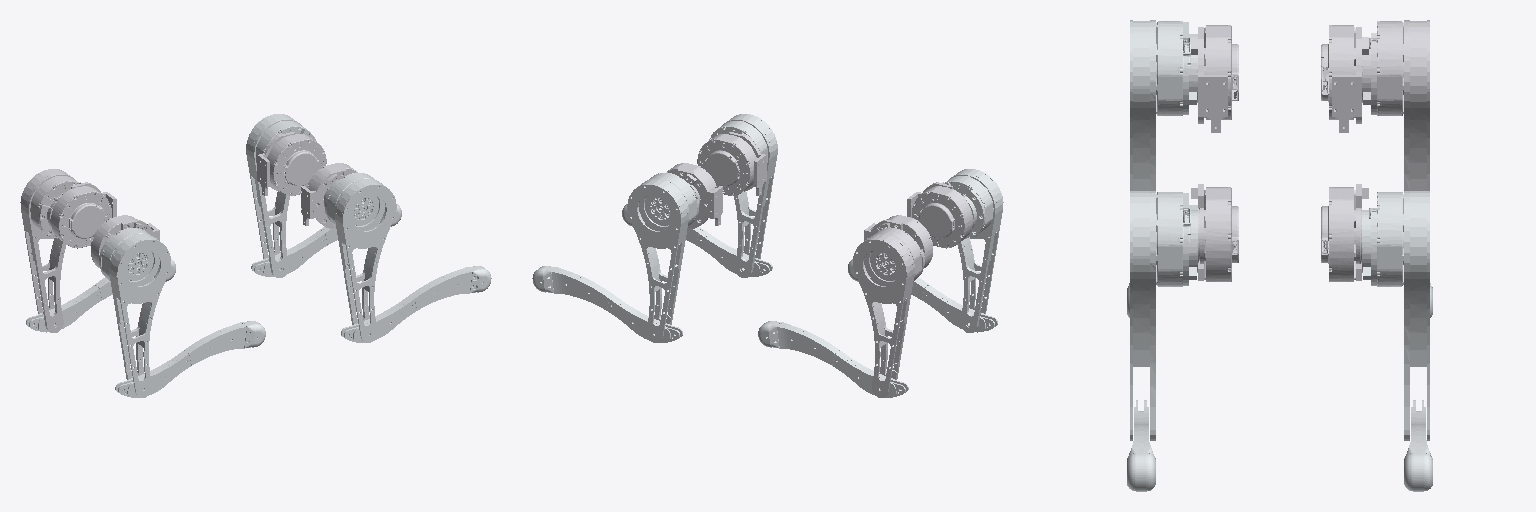
URDF robot description (Creeper20260906):
<?xml version="1.0" encoding="utf-8"?>
<!-- This URDF was automatically created by SolidWorks to URDF Exporter! Originally created by Stephen Brawner (brawner@gmail.com) 
     Commit Version: 1.6.0-4-g7f85cfe  Build Version: 1.6.7995.38578
     For more information, please see http://wiki.ros.org/sw_urdf_exporter -->
<robot
  name="Creeper20260906">
  <link
    name="base">
    <inertial>
      <origin
        xyz="0.00284274321059417 -4.09305017017586E-05 -1.33092210259922E-05"
        rpy="0 0 0" />
      <mass
        value="5.08740163863498" />
      <inertia
        ixx="0.0110074359806059"
        ixy="1.9691200228402E-11"
        ixz="-2.7746240832724E-07"
        iyy="0.00912645230685206"
        iyz="-5.1115573370453E-12"
        izz="0.0126347180422247" />
    </inertial>
    <visual>
      <origin
        xyz="0 0 0"
        rpy="0 0 0" />
      <geometry>
        <mesh
          filename="package://Creeper20260906/meshes/base.STL" />
      </geometry>
      <material
        name="">
        <color
          rgba="0.898039215686275 0.917647058823529 0.929411764705882 1" />
      </material>
    </visual>
    <collision>
      <origin
        xyz="0 0 0"
        rpy="0 0 0" />
      <geometry>
        <box
          size="0.272 0.226 0.144" />
      </geometry>
    </collision>
  </link>
  <link
    name="FL_hip">
    <inertial>
      <origin
        xyz="0.063104 0.00058588 -0.00015896"
        rpy="0 0 0" />
      <mass
        value="0.60205" />
      <inertia
        ixx="0.0003505"
        ixy="-5.9798E-06"
        ixz="-2.517E-06"
        iyy="0.00065586"
        iyz="-7.3578E-07"
        izz="0.00035079" />
    </inertial>
    <visual>
      <origin
        xyz="0 0 0"
        rpy="0 0 0" />
      <geometry>
        <mesh
          filename="package://Creeper20260906/meshes/FL_hip.STL" />
      </geometry>
      <material
        name="">
        <color
          rgba="0.86667 0.86667 0.8902 1" />
      </material>
    </visual>
    <collision>
      <origin
        xyz="0.06825 0.0323 0"
        rpy="1.5708 0 0" />
      <geometry>
        <cylinder
          radius="0.049"
          length="0.111" />
      </geometry>
    </collision>
  </link>
  <joint
    name="FL_hip_joint"
    type="revolute">
    <origin
      xyz="0.1366 0.0650000000000001 0"
      rpy="0 0 0" />
    <parent
      link="base" />
    <child
      link="FL_hip" />
    <axis
      xyz="1 0 0" />
    <limit
      lower="-1.0472"
      upper="1.0472"
      effort="23.7"
      velocity="30.1" />
  </joint>
  <link
    name="FL_thigh">
    <inertial>
      <origin
        xyz="-5.1594E-05 0.033907 -0.016052"
        rpy="0 0 0" />
      <mass
        value="0.87467" />
      <inertia
        ixx="0.0016818"
        ixy="-1.494E-06"
        ixz="-3.2544E-05"
        iyy="0.0021656"
        iyz="6.4513E-07"
        izz="0.00052858" />
    </inertial>
    <visual>
      <origin
        xyz="0 0 0"
        rpy="0 0 0" />
      <geometry>
        <mesh
          filename="package://Creeper20260906/meshes/FL_thigh.STL" />
      </geometry>
      <material
        name="">
        <color
          rgba="0.89804 0.91765 0.92941 1" />
      </material>
    </visual>
    <collision>
      <origin
        xyz="-0.01 0.0557 -0.1"
        rpy="0 1.5708 0" />
      <geometry>
        <box
          size="0.1 0.026 0.04" />
      </geometry>
    </collision>
  </link>
  <joint
    name="FL_thigh_joint"
    type="revolute">
    <origin
      xyz="0.06825 0.0185999999999999 0"
      rpy="0 0 0" />
    <parent
      link="FL_hip" />
    <child
      link="FL_thigh" />
    <axis
      xyz="0 1 0" />
    <limit
      lower="-1.5708"
      upper="3.4907"
      effort="23.7"
      velocity="30.1" />
  </joint>
  <link
    name="FL_calf">
    <inertial>
      <origin
        xyz="0.0059073 9.0022E-10 -0.087872"
        rpy="0 0 0" />
      <mass
        value="0.23193" />
      <inertia
        ixx="0.00054624"
        ixy="-7.5518E-12"
        ixz="3.2419E-05"
        iyy="0.0005657"
        iyz="4.4682E-12"
        izz="2.3569E-05" />
    </inertial>
    <visual>
      <origin
        xyz="0 0 0"
        rpy="0 0 0" />
      <geometry>
        <mesh
          filename="package://Creeper20260906/meshes/FL_calf.STL" />
      </geometry>
      <material
        name="">
        <color
          rgba="0.89804 0.91765 0.92941 1" />
      </material>
    </visual>
    <collision>
      <origin
        xyz="0.01 0 -0.07"
        rpy="0 -0.2 0" />
      <geometry>
        <cylinder
          radius="0.013"
          length="0.12" />
      </geometry>
    </collision>
  </link>
  <joint
    name="FL_calf_joint"
    type="revolute">
    <origin
      xyz="0 0.0572000000000001 -0.210000000000001"
      rpy="0 0 0" />
    <parent
      link="FL_thigh" />
    <child
      link="FL_calf" />
    <axis
      xyz="0 1 0" />
    <limit
      lower="-2.7227"
      upper="-0.83776"
      effort="23.7"
      velocity="30.1" />
  </joint>
  <link
    name="FL_foot">
    <inertial>
      <origin
        xyz="0 0 0"
        rpy="0 0 0" />
      <mass
        value="0.001" />
      <inertia
        ixx="1e-06"
        ixy="0"
        ixz="0"
        iyy="1e-06"
        iyz="0"
        izz="1e-06" />
    </inertial>
    <collision>
      <origin
        xyz="0 0 0"
        rpy="0 0 0" />
      <geometry>
        <sphere
          radius="0.02" />
      </geometry>
    </collision>
  </link>
  <joint
    name="FL_foot_joint"
    type="fixed">
    <origin
      xyz="0 0 -0.208"
      rpy="0 0 0" />
    <parent
      link="FL_calf" />
    <child
      link="FL_foot" />
    <axis
      xyz="0 0 0" />
  </joint>
  <link
    name="FR_hip">
    <inertial>
      <origin
        xyz="0.063104 -0.00058588 1.3979E-05"
        rpy="0 0 0" />
      <mass
        value="0.60205" />
      <inertia
        ixx="0.0003505"
        ixy="5.9798E-06"
        ixz="-5.2951E-07"
        iyy="0.00065586"
        iyz="9.0356E-07"
        izz="0.00035079" />
    </inertial>
    <visual>
      <origin
        xyz="0 0 0"
        rpy="0 0 0" />
      <geometry>
        <mesh
          filename="package://Creeper20260906/meshes/FR_hip.STL" />
      </geometry>
      <material
        name="">
        <color
          rgba="0.86667 0.86667 0.8902 1" />
      </material>
    </visual>
    <collision>
      <origin
        xyz="0.06825 -0.0323 0"
        rpy="1.5708 0 0" />
      <geometry>
        <cylinder
          radius="0.049"
          length="0.111" />
      </geometry>
    </collision>
  </link>
  <joint
    name="FR_hip_joint"
    type="revolute">
    <origin
      xyz="0.1366 -0.065 0"
      rpy="0 0 0" />
    <parent
      link="base" />
    <child
      link="FR_hip" />
    <axis
      xyz="1 0 0" />
    <limit
      lower="-1.0472"
      upper="1.0472"
      effort="23.7"
      velocity="30.1" />
  </joint>
  <link
    name="FR_thigh">
    <inertial>
      <origin
        xyz="-0.00068163 -0.033907 -0.016052"
        rpy="0 0 0" />
      <mass
        value="0.87467" />
      <inertia
        ixx="0.0016818"
        ixy="-7.2623E-07"
        ixz="-1.8845E-05"
        iyy="0.002167"
        iyz="-6.4513E-07"
        izz="0.00053001" />
    </inertial>
    <visual>
      <origin
        xyz="0 0 0"
        rpy="0 0 0" />
      <geometry>
        <mesh
          filename="package://Creeper20260906/meshes/FR_thigh.STL" />
      </geometry>
      <material
        name="">
        <color
          rgba="0.89804 0.91765 0.92941 1" />
      </material>
    </visual>
    <collision>
      <origin
        xyz="-0.01 -0.0557 -0.1"
        rpy="0 1.5708 0" />
      <geometry>
        <box
          size="0.1 0.026 0.04" />
      </geometry>
    </collision>
  </link>
  <joint
    name="FR_thigh_joint"
    type="revolute">
    <origin
      xyz="0.0682500000000001 -0.0185999999999997 0"
      rpy="0 0 0" />
    <parent
      link="FR_hip" />
    <child
      link="FR_thigh" />
    <axis
      xyz="0 1 0" />
    <limit
      lower="-1.5708"
      upper="3.4907"
      effort="23.7"
      velocity="30.1" />
  </joint>
  <link
    name="FR_calf">
    <inertial>
      <origin
        xyz="0.0059073 -3.8735E-06 -0.087872"
        rpy="0 0 0" />
      <mass
        value="0.23193" />
      <inertia
        ixx="0.00054624"
        ixy="-7.5518E-12"
        ixz="3.2419E-05"
        iyy="0.0005657"
        iyz="4.4682E-12"
        izz="2.3569E-05" />
    </inertial>
    <visual>
      <origin
        xyz="0 0 0"
        rpy="0 0 0" />
      <geometry>
        <mesh
          filename="package://Creeper20260906/meshes/FR_calf.STL" />
      </geometry>
      <material
        name="">
        <color
          rgba="0.89804 0.91765 0.92941 1" />
      </material>
    </visual>
    <collision>
      <origin
        xyz="0.01 0 -0.07"
        rpy="0 -0.2 0" />
      <geometry>
        <cylinder
          radius="0.013"
          length="0.12" />
      </geometry>
    </collision>
  </link>
  <joint
    name="FR_calf_joint"
    type="revolute">
    <origin
      xyz="0 -0.0572 -0.21"
      rpy="0 0 0" />
    <parent
      link="FR_thigh" />
    <child
      link="FR_calf" />
    <axis
      xyz="0 1 0" />
    <limit
      lower="-2.7227"
      upper="-0.83776"
      effort="23.7"
      velocity="30.1" />
  </joint>
  <link
    name="FR_foot">
    <inertial>
      <origin
        xyz="0 0 0"
        rpy="0 0 0" />
      <mass
        value="0.001" />
      <inertia
        ixx="1e-06"
        ixy="0"
        ixz="0"
        iyy="1e-06"
        iyz="0"
        izz="1e-06" />
    </inertial>
    <collision>
      <origin
        xyz="0 0 0"
        rpy="0 0 0" />
      <geometry>
        <sphere
          radius="0.02" />
      </geometry>
    </collision>
  </link>
  <joint
    name="FR_foot_joint"
    type="fixed">
    <origin
      xyz="0 0 -0.208"
      rpy="0 0 0" />
    <parent
      link="FR_calf" />
    <child
      link="FR_foot" />
    <axis
      xyz="0 0 0" />
  </joint>
  <link
    name="RL_hip">
    <inertial>
      <origin
        xyz="-0.063104 0.00058588 1.3979E-05"
        rpy="0 0 0" />
      <mass
        value="0.60205" />
      <inertia
        ixx="0.0003505"
        ixy="5.9798E-06"
        ixz="5.2951E-07"
        iyy="0.00065586"
        iyz="-9.0356E-07"
        izz="0.00035079" />
    </inertial>
    <visual>
      <origin
        xyz="0 0 0"
        rpy="0 0 0" />
      <geometry>
        <mesh
          filename="package://Creeper20260906/meshes/RL_hip.STL" />
      </geometry>
      <material
        name="">
        <color
          rgba="0.86667 0.86667 0.8902 1" />
      </material>
    </visual>
    <collision>
      <origin
        xyz="-0.06825 0.0323 0"
        rpy="1.5708 0 0" />
      <geometry>
        <cylinder
          radius="0.049"
          length="0.111" />
      </geometry>
    </collision>
  </link>
  <joint
    name="RL_hip_joint"
    type="revolute">
    <origin
      xyz="-0.1366 0.0650000000000006 0"
      rpy="0 0 0" />
    <parent
      link="base" />
    <child
      link="RL_hip" />
    <axis
      xyz="1 0 0" />
    <limit
      lower="-1.0472"
      upper="1.0472"
      effort="23.7"
      velocity="30.1" />
  </joint>
  <link
    name="RL_thigh">
    <inertial>
      <origin
        xyz="-0.0001544 0.033836 -0.015945"
        rpy="0 0 0" />
      <mass
        value="0.87728" />
      <inertia
        ixx="0.0016824"
        ixy="-1.1219E-06"
        ixz="-3.1507E-05"
        iyy="0.0021703"
        iyz="5.3294E-07"
        izz="0.00053281" />
    </inertial>
    <visual>
      <origin
        xyz="0 0 0"
        rpy="0 0 0" />
      <geometry>
        <mesh
          filename="package://Creeper20260906/meshes/RL_thigh.STL" />
      </geometry>
      <material
        name="">
        <color
          rgba="0.86667 0.86667 0.8902 1" />
      </material>
    </visual>
    <collision>
      <origin
        xyz="-0.01 0.0557 -0.1"
        rpy="0 1.5708 0" />
      <geometry>
        <box
          size="0.1 0.026 0.04" />
      </geometry>
    </collision>
  </link>
  <joint
    name="RL_thigh_joint"
    type="revolute">
    <origin
      xyz="-0.0682499999999999 0.0186000000000003 0"
      rpy="0 0 0" />
    <parent
      link="RL_hip" />
    <child
      link="RL_thigh" />
    <axis
      xyz="0 1 0" />
    <limit
      lower="-0.5236"
      upper="4.5379"
      effort="23.7"
      velocity="30.1" />
  </joint>
  <link
    name="RL_calf">
    <inertial>
      <origin
        xyz="0.0059073 9.0022E-10 -0.087872"
        rpy="0 0 0" />
      <mass
        value="0.23193" />
      <inertia
        ixx="0.00054624"
        ixy="-7.5518E-12"
        ixz="3.2419E-05"
        iyy="0.0005657"
        iyz="4.4682E-12"
        izz="2.3569E-05" />
    </inertial>
    <visual>
      <origin
        xyz="0 0 0"
        rpy="0 0 0" />
      <geometry>
        <mesh
          filename="package://Creeper20260906/meshes/RL_calf.STL" />
      </geometry>
      <material
        name="">
        <color
          rgba="0.89804 0.91765 0.92941 1" />
      </material>
    </visual>
    <collision>
      <origin
        xyz="0.01 0 -0.07"
        rpy="0 -0.2 0" />
      <geometry>
        <cylinder
          radius="0.013"
          length="0.12" />
      </geometry>
    </collision>
  </link>
  <joint
    name="RL_calf_joint"
    type="revolute">
    <origin
      xyz="0 0.0572 -0.21"
      rpy="0 0 0" />
    <parent
      link="RL_thigh" />
    <child
      link="RL_calf" />
    <axis
      xyz="0 1 0" />
    <limit
      lower="-2.7227"
      upper="-0.83776"
      effort="23.7"
      velocity="30.1" />
  </joint>
  <link
    name="RL_foot">
    <inertial>
      <origin
        xyz="0 0 0"
        rpy="0 0 0" />
      <mass
        value="0.001" />
      <inertia
        ixx="1e-06"
        ixy="0"
        ixz="0"
        iyy="1e-06"
        iyz="0"
        izz="1e-06" />
    </inertial>
    <collision>
      <origin
        xyz="0 0 0"
        rpy="0 0 0" />
      <geometry>
        <sphere
          radius="0.02" />
      </geometry>
    </collision>
  </link>
  <joint
    name="RL_foot_joint"
    type="fixed">
    <origin
      xyz="0 0 -0.208"
      rpy="0 0 0" />
    <parent
      link="RL_calf" />
    <child
      link="RL_foot" />
    <axis
      xyz="0 0 0" />
  </joint>
  <link
    name="RR_hip">
    <inertial>
      <origin
        xyz="-0.063104 -0.00058588 -0.00015896"
        rpy="0 0 0" />
      <mass
        value="0.60205" />
      <inertia
        ixx="0.0003505"
        ixy="-5.9798E-06"
        ixz="2.517E-06"
        iyy="0.00065586"
        iyz="7.3578E-07"
        izz="0.00035079" />
    </inertial>
    <visual>
      <origin
        xyz="0 0 0"
        rpy="0 0 0" />
      <geometry>
        <mesh
          filename="package://Creeper20260906/meshes/RR_hip.STL" />
      </geometry>
      <material
        name="">
        <color
          rgba="0.86667 0.86667 0.8902 1" />
      </material>
    </visual>
    <collision>
      <origin
        xyz="-0.06825 -0.0323 0"
        rpy="1.5708 0 0" />
      <geometry>
        <cylinder
          radius="0.049"
          length="0.111" />
      </geometry>
    </collision>
  </link>
  <joint
    name="RR_hip_joint"
    type="revolute">
    <origin
      xyz="-0.1366 -0.0649999999999998 0"
      rpy="0 0 0" />
    <parent
      link="base" />
    <child
      link="RR_hip" />
    <axis
      xyz="1 0 0" />
    <limit
      lower="-1.0472"
      upper="1.0472"
      effort="23.7"
      velocity="30.1" />
  </joint>
  <link
    name="RR_thigh">
    <inertial>
      <origin
        xyz="-0.00057287 -0.033836 -0.015945"
        rpy="0 0 0" />
      <mass
        value="0.87728" />
      <inertia
        ixx="0.0016824"
        ixy="-3.7865E-07"
        ixz="-2.099E-05"
        iyy="0.0021714"
        iyz="-5.3294E-07"
        izz="0.00053383" />
    </inertial>
    <visual>
      <origin
        xyz="0 0 0"
        rpy="0 0 0" />
      <geometry>
        <mesh
          filename="package://Creeper20260906/meshes/RR_thigh.STL" />
      </geometry>
      <material
        name="">
        <color
          rgba="0.89804 0.91765 0.92941 1" />
      </material>
    </visual>
    <collision>
      <origin
        xyz="-0.01 -0.0557 -0.1"
        rpy="0 1.5708 0" />
      <geometry>
        <box
          size="0.1 0.026 0.04" />
      </geometry>
    </collision>
  </link>
  <joint
    name="RR_thigh_joint"
    type="revolute">
    <origin
      xyz="-0.0682499999999994 -0.0185999999999999 0"
      rpy="0 0 0" />
    <parent
      link="RR_hip" />
    <child
      link="RR_thigh" />
    <axis
      xyz="0 1 0" />
    <limit
      lower="-0.5236"
      upper="4.5379"
      effort="23.7"
      velocity="30.1" />
  </joint>
  <link
    name="RR_calf">
    <inertial>
      <origin
        xyz="0.0059073 9.0022E-10 -0.087872"
        rpy="0 0 0" />
      <mass
        value="0.23193" />
      <inertia
        ixx="0.00054624"
        ixy="-7.5518E-12"
        ixz="3.2419E-05"
        iyy="0.0005657"
        iyz="4.4682E-12"
        izz="2.3569E-05" />
    </inertial>
    <visual>
      <origin
        xyz="0 0 0"
        rpy="0 0 0" />
      <geometry>
        <mesh
          filename="package://Creeper20260906/meshes/RR_calf.STL" />
      </geometry>
      <material
        name="">
        <color
          rgba="0.89804 0.91765 0.92941 1" />
      </material>
    </visual>
    <collision>
      <origin
        xyz="0.01 0 -0.07"
        rpy="0 -0.2 0" />
      <geometry>
        <cylinder
          radius="0.013"
          length="0.12" />
      </geometry>
    </collision>
  </link>
  <joint
    name="RR_calf_joint"
    type="revolute">
    <origin
      xyz="0 -0.0572000000000006 -0.21"
      rpy="0 0 0" />
    <parent
      link="RR_thigh" />
    <child
      link="RR_calf" />
    <axis
      xyz="0 1 0" />
    <limit
      lower="-2.7227"
      upper="-0.83776"
      effort="23.7"
      velocity="30.1" />
  </joint>
  <link
    name="RR_foot">
    <inertial>
      <origin
        xyz="0 0 0"
        rpy="0 0 0" />
      <mass
        value="0.001" />
      <inertia
        ixx="1e-06"
        ixy="0"
        ixz="0"
        iyy="1e-06"
        iyz="0"
        izz="1e-06" />
    </inertial>
    <collision>
      <origin
        xyz="0 0 0"
        rpy="0 0 0" />
      <geometry>
        <sphere
          radius="0.02" />
      </geometry>
    </collision>
  </link>
  <joint
    name="RR_foot_joint"
    type="fixed">
    <origin
      xyz="0 0 -0.208"
      rpy="0 0 0" />
    <parent
      link="RR_calf" />
    <child
      link="RR_foot" />
    <axis
      xyz="0 0 0" />
  </joint>
  <link
    name="imu">
    <inertial>
      <origin
        xyz="0 0 0"
        rpy="0 0 0" />
      <mass
        value="0.001" />
      <inertia
        ixx="1e-06"
        ixy="0"
        ixz="0"
        iyy="1e-06"
        iyz="0"
        izz="1e-06" />
    </inertial>
  </link>
  <joint
    name="imu_joint"
    type="fixed">
    <origin
      xyz="-0.02557 0 0.04232"
      rpy="0 0 0" />
    <parent
      link="base" />
    <child
      link="imu" />
    <axis
      xyz="0 0 0" />
  </joint>
</robot>

--- Render facts (derived) ---
Views: 3 orthographic renders of the robot side by side, from view 1: azimuth 30°, elevation 25°; view 2: azimuth 150°, elevation 25°; view 3: azimuth 270°, elevation 25°.
Robot: Creeper20260906 — 18 links, 17 joints (12 revolute, 5 fixed); root link base; default pose: joints at zero except 4 at the middle of their limits (FL_calf_joint = -1.78, FR_calf_joint = -1.78, RL_calf_joint = -1.78, RR_calf_joint = -1.78).
Links seen in each view (by area): view 1: RR_thigh, FR_thigh, RL_thigh, FL_thigh, FL_hip, RL_hip, RR_calf, FR_calf, FR_hip, RL_calf, FL_calf, RR_hip; view 2: RL_thigh, FL_thigh, RR_thigh, FR_thigh, FR_hip, RR_hip, RL_calf, FL_calf, FL_hip, RR_calf, FR_calf, RL_hip; view 3: FR_thigh, FL_thigh, RR_thigh, RL_thigh, RR_hip, RL_hip, FR_hip, FL_hip, FL_calf, FR_calf.
Link boxes in pixels (x1,y1,x2,y2): RR_thigh: (99,228,170,397); FR_thigh: (325,173,396,342); RL_thigh: (20,169,78,332); FL_thigh: (246,114,316,277); FL_hip: (257,132,326,195); RL_hip: (50,182,116,248); RR_calf: (115,321,265,397); FR_calf: (341,266,491,342); FR_hip: (301,163,357,228); RL_calf: (26,259,175,332); FL_calf: (251,204,401,276); RR_hip: (91,215,159,267); RL_thigh: (853,228,924,397); FL_thigh: (627,173,698,342); RR_thigh: (945,169,1003,332); FR_thigh: (709,114,777,277); FR_hip: (697,132,766,195); RR_hip: (907,182,973,248); RL_calf: (758,321,908,397); FL_calf: (532,266,682,342); FL_hip: (666,163,722,228); RR_calf: (848,259,997,332); FR_calf: (622,204,772,276); RL_hip: (864,215,932,267); FR_thigh: (1130,191,1197,440); FL_thigh: (1362,191,1429,440); RR_thigh: (1130,20,1197,190); RL_thigh: (1362,20,1429,190); RR_hip: (1191,25,1238,132); RL_hip: (1321,25,1368,132); FR_hip: (1191,184,1238,281); FL_hip: (1321,184,1368,281); FL_calf: (1404,400,1432,491); FR_calf: (1127,400,1155,491).
Bounding box of the posed robot: 0.6821 × 0.3116 × 0.2739 m (x, y, z).
Meshes: 13 distinct files referenced, 12 mesh visuals loaded (12 binary STL); not drawn: 1 (reference not matched to a file when rendering).
